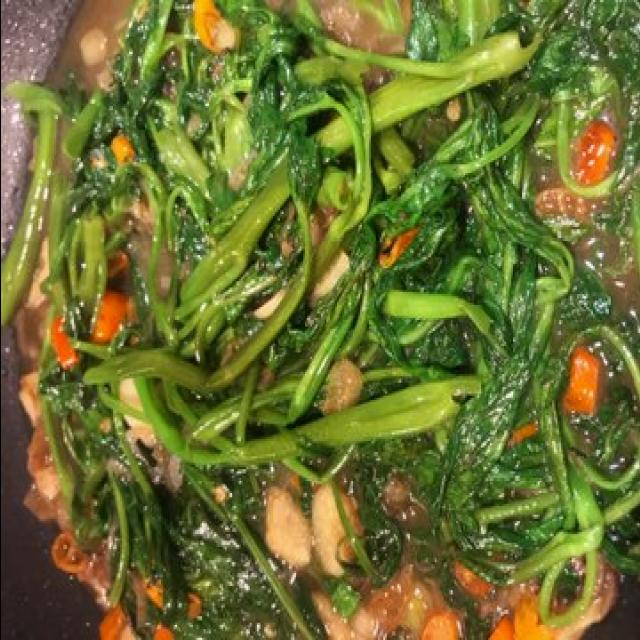tumis kangkung: (0, 0, 640, 640)
